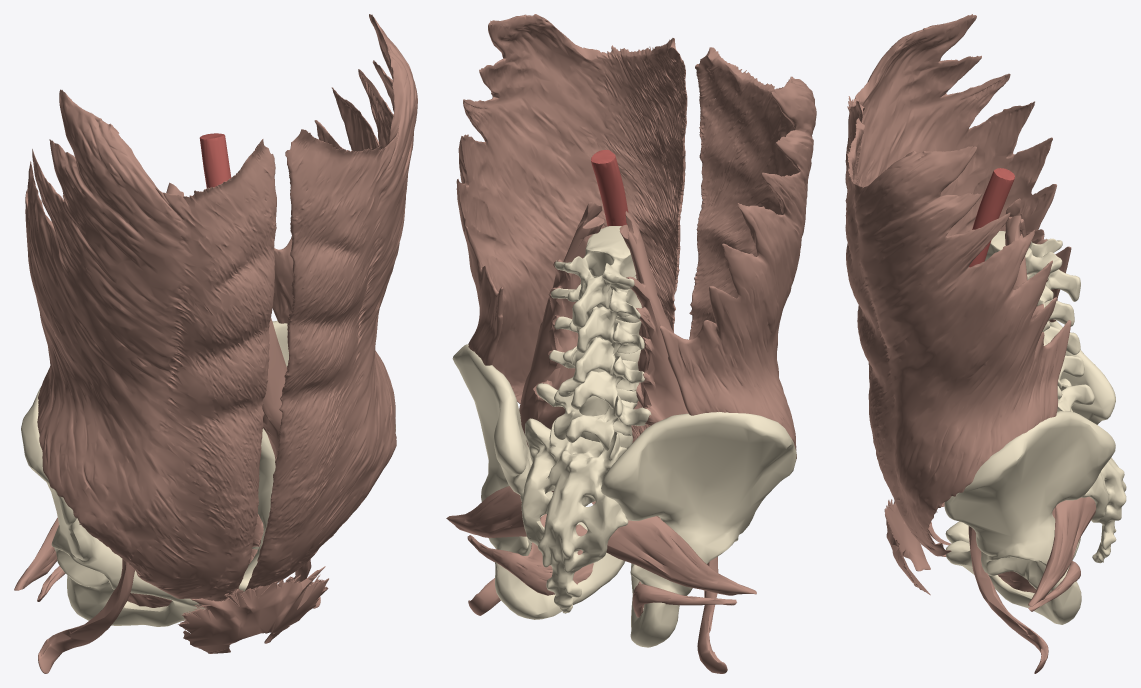
The model's file is abdomen-0.glb.
3 renders of one model, left to right at view 1: azimuth 30°, elevation 25°; view 2: azimuth 150°, elevation 25°; view 3: azimuth 270°, elevation 25°, orthographic. The views are drawn at different scales.
Visible parts, largest first — view 1: FJ1452, FJ1452M, FJ3152, FJ2815, FJ1431, FJ1431M, FJ3288, FJ1932, FJ1428, FJ1426; view 2: FJ1452M, FJ1452, FJ3152, FJ3393, FJ3288, FJ1431, FJ1431M, FJ1428, FJ3157, FJ3168, FJ3165, FJ1428M (+5 smaller); view 3: FJ1452M, FJ1452, FJ3288, FJ1428M, FJ1431M, FJ3393, FJ3152, FJ3157, FJ2815, FJ1932, FJ1426M, FJ3168 (+3 smaller).
Part boxes in pixels (bbox=[...]): FJ1452: bbox=[25, 89, 276, 601]; FJ1452M: bbox=[245, 14, 417, 591]; FJ3152: bbox=[21, 386, 205, 626]; FJ2815: bbox=[178, 566, 328, 653]; FJ1431: bbox=[38, 182, 183, 673]; FJ1431M: bbox=[262, 318, 320, 608]; FJ3288: bbox=[238, 320, 395, 592]; FJ1932: bbox=[199, 133, 231, 188]; FJ1428: bbox=[14, 518, 58, 590]; FJ1426: bbox=[37, 566, 171, 607]; FJ1452M: bbox=[456, 14, 687, 504]; FJ1452: bbox=[659, 47, 816, 519]; FJ3152: bbox=[601, 412, 796, 647]; FJ3393: bbox=[520, 418, 628, 613]; FJ3288: bbox=[452, 344, 625, 619]; FJ1431: bbox=[619, 211, 727, 673]; FJ1431M: bbox=[468, 202, 604, 615]; FJ1428: bbox=[606, 516, 756, 595]; FJ3157: bbox=[554, 226, 635, 327]; FJ3168: bbox=[536, 383, 651, 450]; FJ3165: bbox=[549, 346, 644, 409]; FJ1428M: bbox=[446, 486, 526, 537]; FJ1452M: bbox=[845, 118, 1071, 556]; FJ1452: bbox=[845, 14, 1071, 545]; FJ3288: bbox=[944, 411, 1115, 624]; FJ1428M: bbox=[1028, 496, 1096, 606]; FJ1431M: bbox=[968, 215, 1048, 673]; FJ3393: bbox=[1060, 378, 1126, 563]; FJ3152: bbox=[945, 320, 1115, 560]; FJ3157: bbox=[984, 231, 1080, 301]; FJ2815: bbox=[884, 499, 930, 595]; FJ1932: bbox=[969, 168, 1014, 267]; FJ1426M: bbox=[997, 561, 1080, 611]; FJ3168: bbox=[1057, 382, 1094, 411].
Bounding box in the file's own units: 0.2896 × 0.4764 × 0.226.
